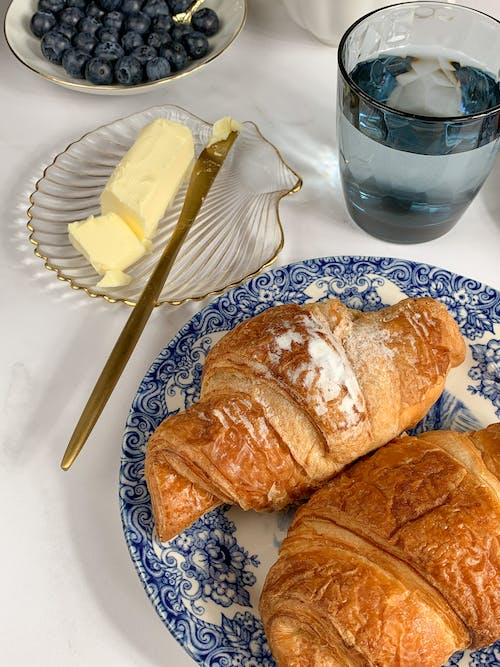knife: (58, 127, 242, 478)
